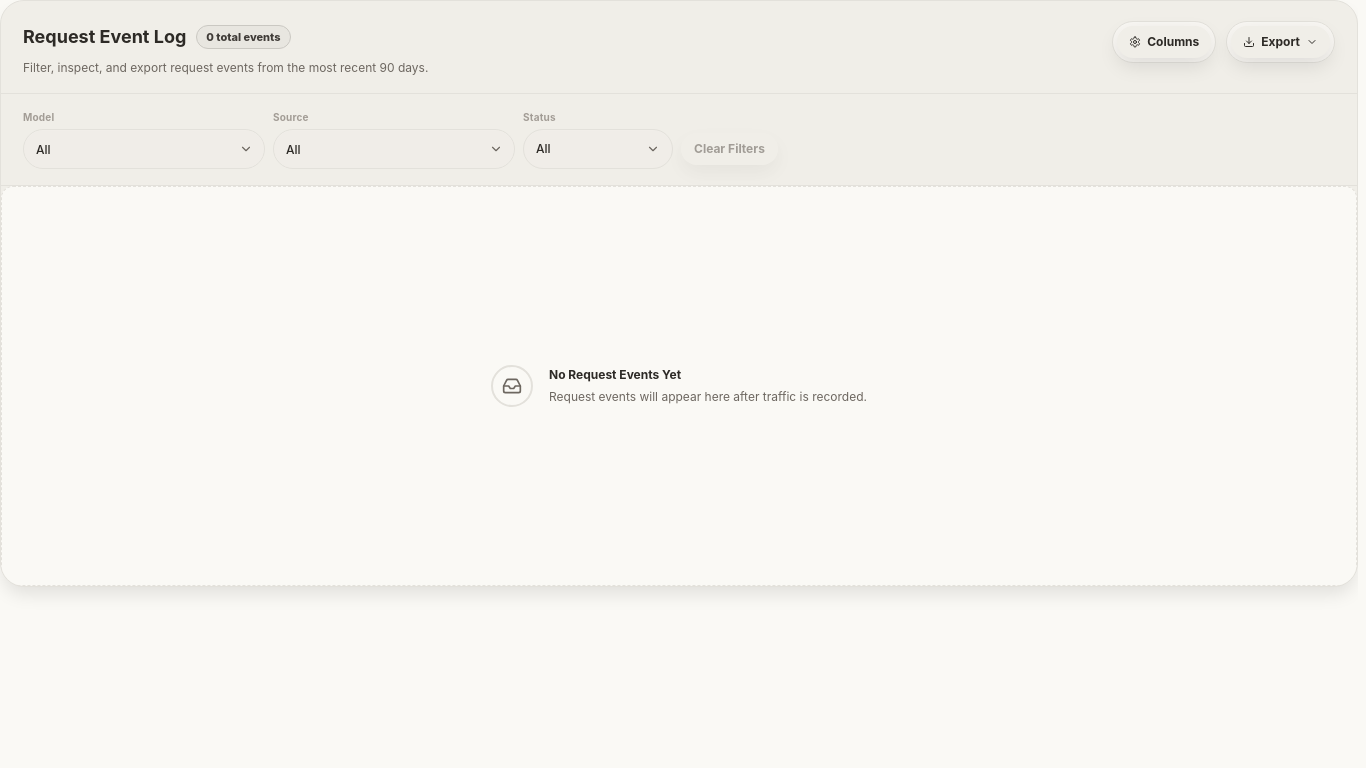
Test: RequestEventsDetailsCard export menu › opens only after a click and keeps the existing format selection behavior
Click the button "Export" at (1281, 42), box x1=1231 y1=26 x2=1330 y2=58
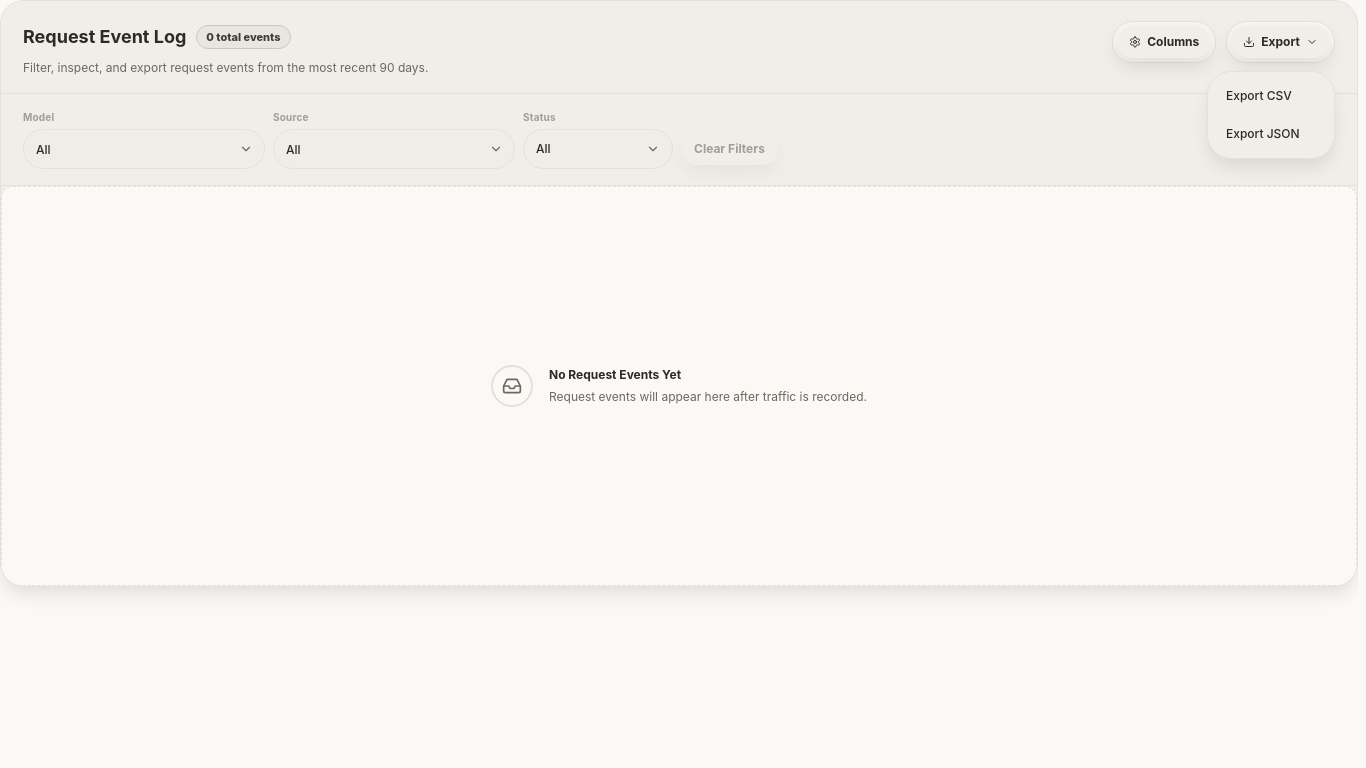
Expected: the menu is shown, x1=1207 y1=71 x2=1335 y2=159
Move the pointer off the element showing "Export Export CSV Export JSON", box x1=1226 y1=21 x2=1335 y2=63
Expected: the menu is shown, x1=1207 y1=71 x2=1335 y2=159
Click the menu item "Export JSON" at (1271, 134), box x1=1214 y1=116 x2=1328 y2=152
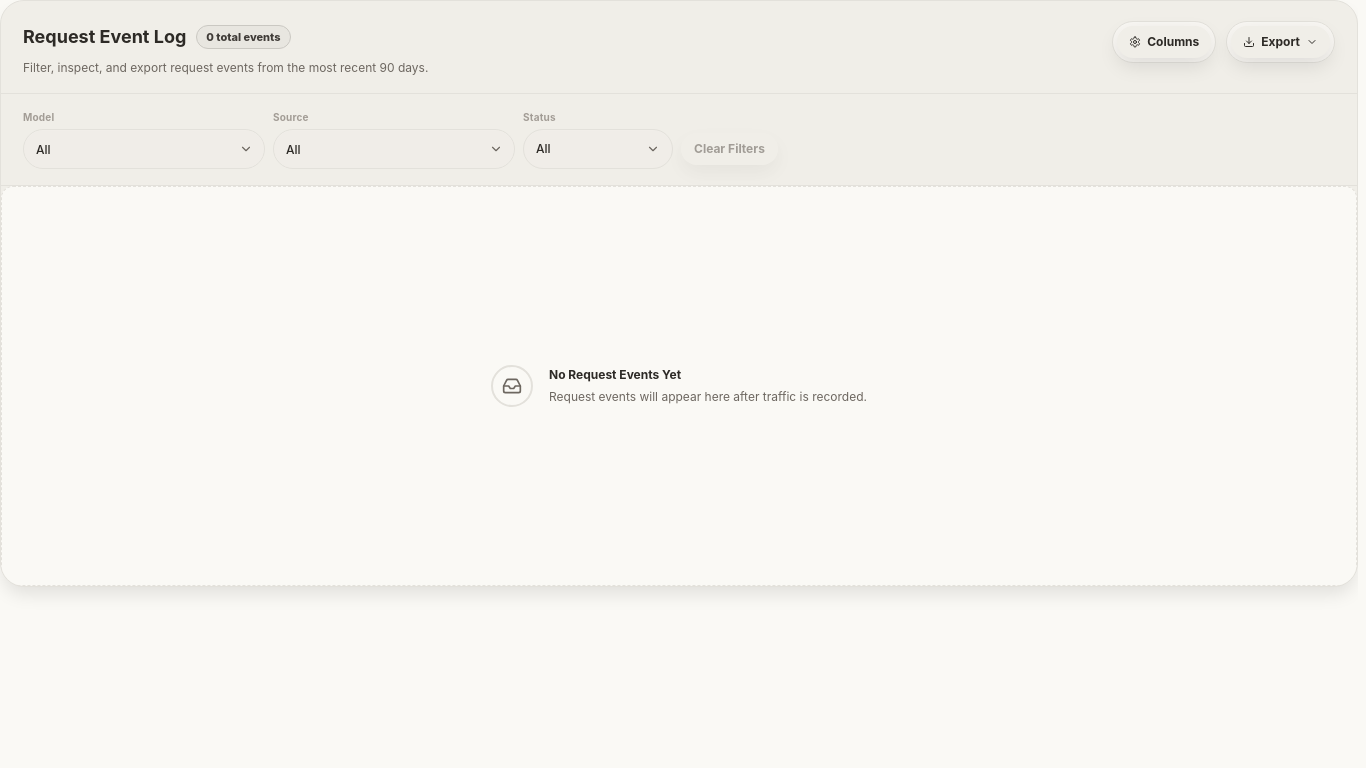
Expected: the menu is gone
